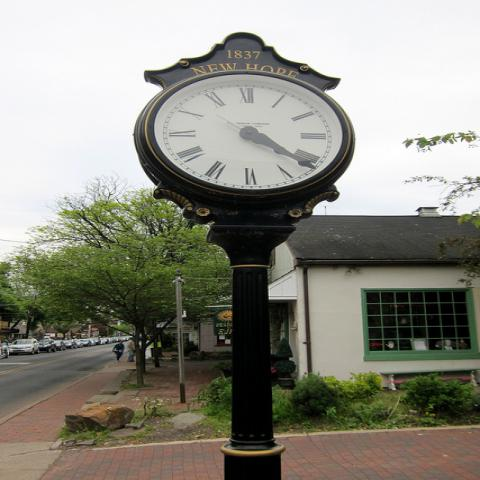car: (7, 338, 42, 355), (36, 336, 59, 352), (56, 340, 67, 352), (87, 337, 100, 346), (62, 340, 75, 349), (70, 340, 84, 348), (77, 339, 91, 346), (104, 338, 112, 344), (110, 337, 118, 343), (98, 338, 105, 344)
